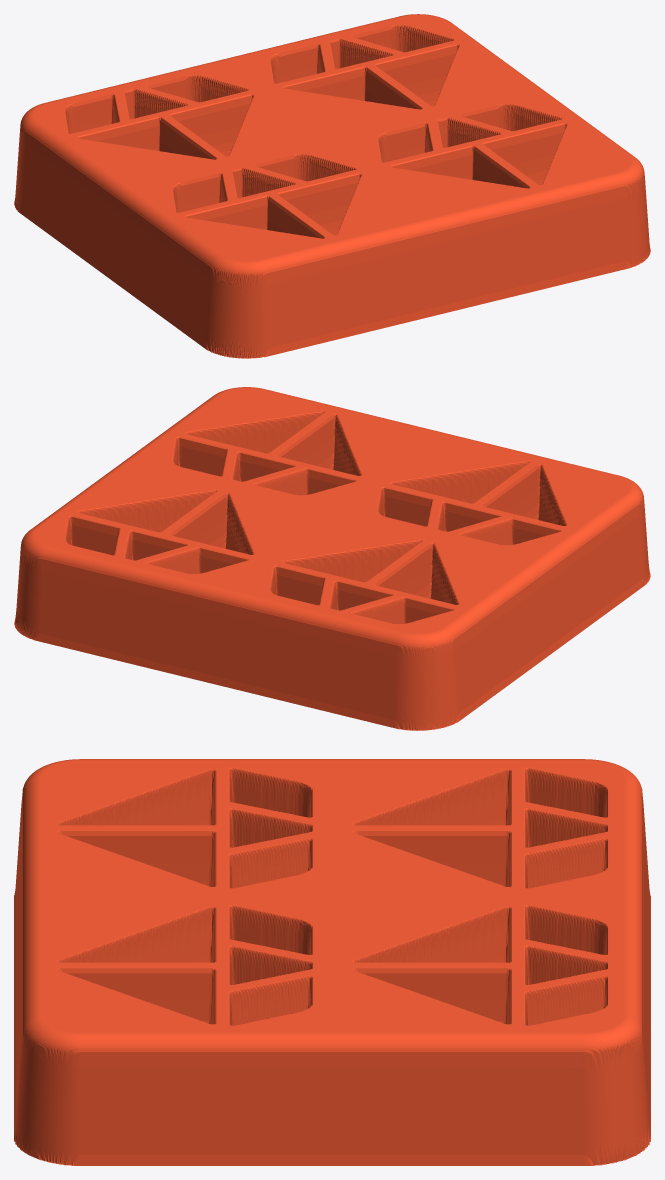
The model's file is mold.glb.
The picture shows the model from 3 angles, top to bottom: view 1: azimuth 30°, elevation 25°; view 2: azimuth 150°, elevation 25°; view 3: azimuth 270°, elevation 25°; orthographic projection. The views are drawn at different scales.
Visible parts, largest first — view 1: geometry_0; view 2: geometry_0; view 3: geometry_0.
Part boxes in pixels (bbox=[...]): geometry_0: bbox=[14, 14, 650, 358]; geometry_0: bbox=[14, 387, 650, 730]; geometry_0: bbox=[14, 759, 650, 1165].
Size of the model in its own units: 0.0942 by 0.0182 by 0.0862.
